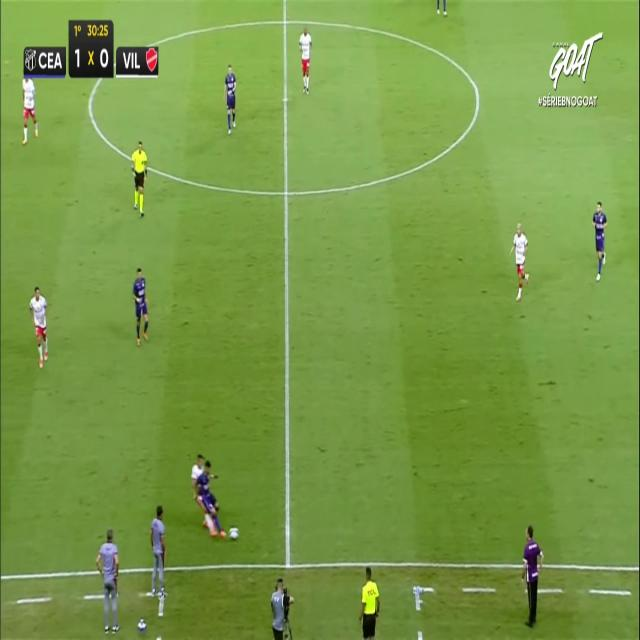ball: (229, 528, 242, 547)
player: (190, 452, 222, 538), (199, 461, 225, 535), (29, 285, 49, 369), (510, 222, 530, 300), (592, 200, 608, 281), (132, 266, 148, 346), (22, 72, 38, 145), (223, 64, 237, 134), (298, 26, 312, 94), (430, 0, 452, 20)
referee: (358, 563, 383, 640), (130, 139, 148, 217)
